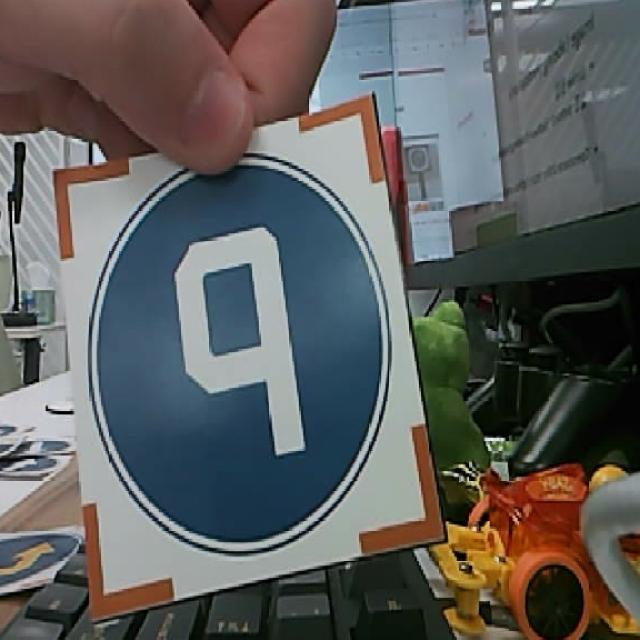parking: (53, 92, 449, 626)
